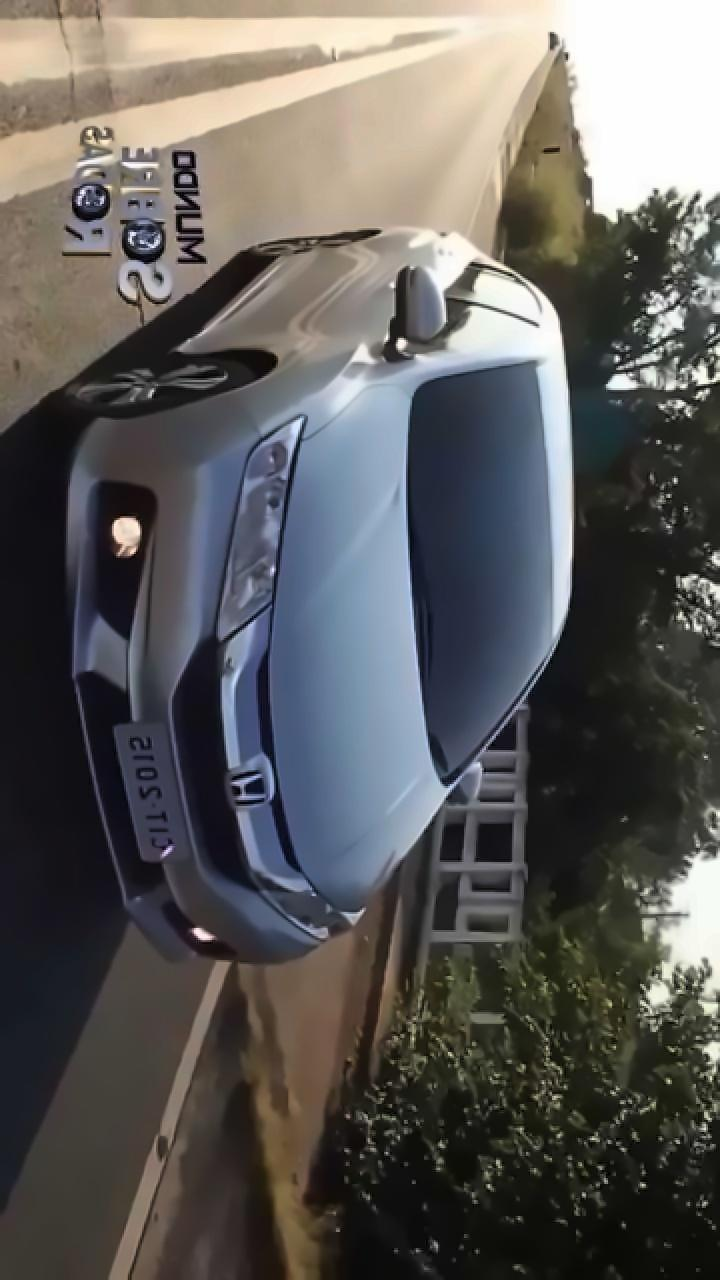Car hood: (255, 375, 459, 916)
Driver-s door - -F-R-: (195, 279, 550, 353)
Fender - -F-L-: (165, 332, 396, 439)
Front bumper: (55, 404, 259, 978)
Headlight - -L-: (247, 875, 377, 957)
Headlight - -R-: (205, 407, 315, 648)
Passenger-s door - -R-R-: (248, 237, 547, 312)
Side bumper - -R-: (152, 240, 294, 365)
Side mirror - -L-: (430, 749, 496, 817)
Side mirror - -R-: (375, 255, 456, 356)
